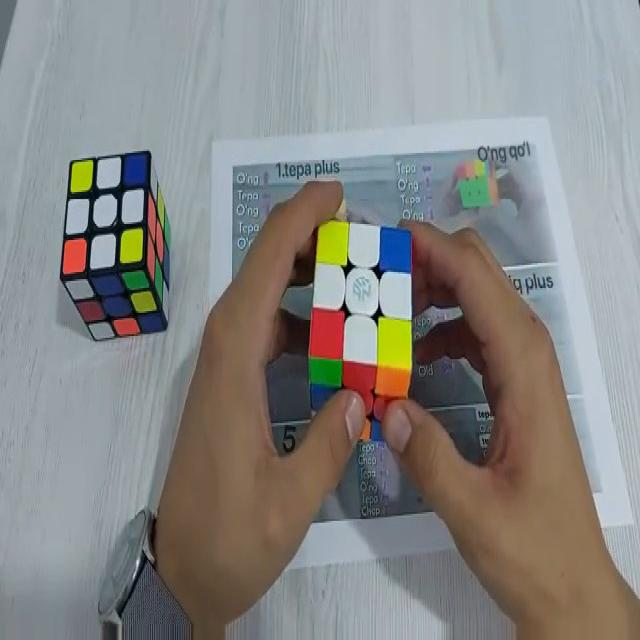Rub: (308, 217, 415, 446), (60, 152, 175, 344)
